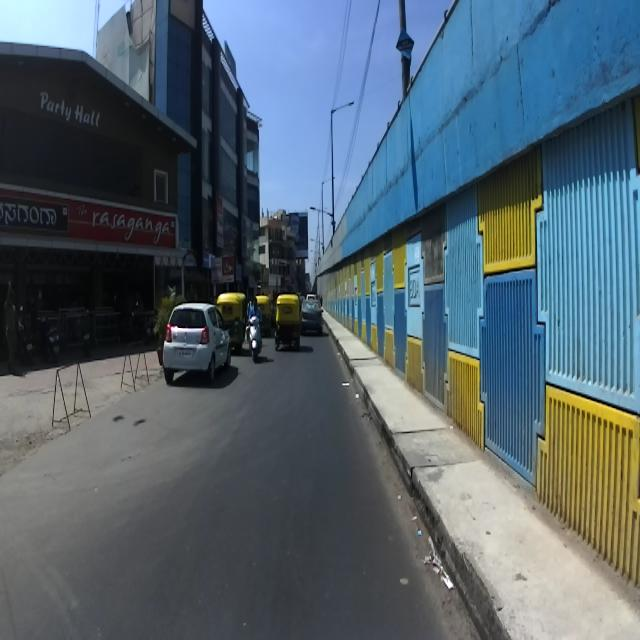auto ahead at: (274, 294, 302, 353)
car ahead at: (160, 296, 234, 391)
